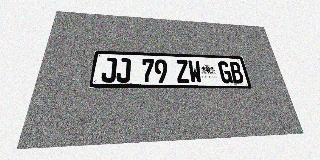7: (141, 59, 154, 83)
9: (154, 59, 168, 83)
B: (228, 61, 245, 83)
G: (217, 61, 233, 83)
J: (100, 57, 117, 82), (116, 58, 131, 83)
W: (188, 60, 203, 83)
Z: (175, 60, 190, 83)
